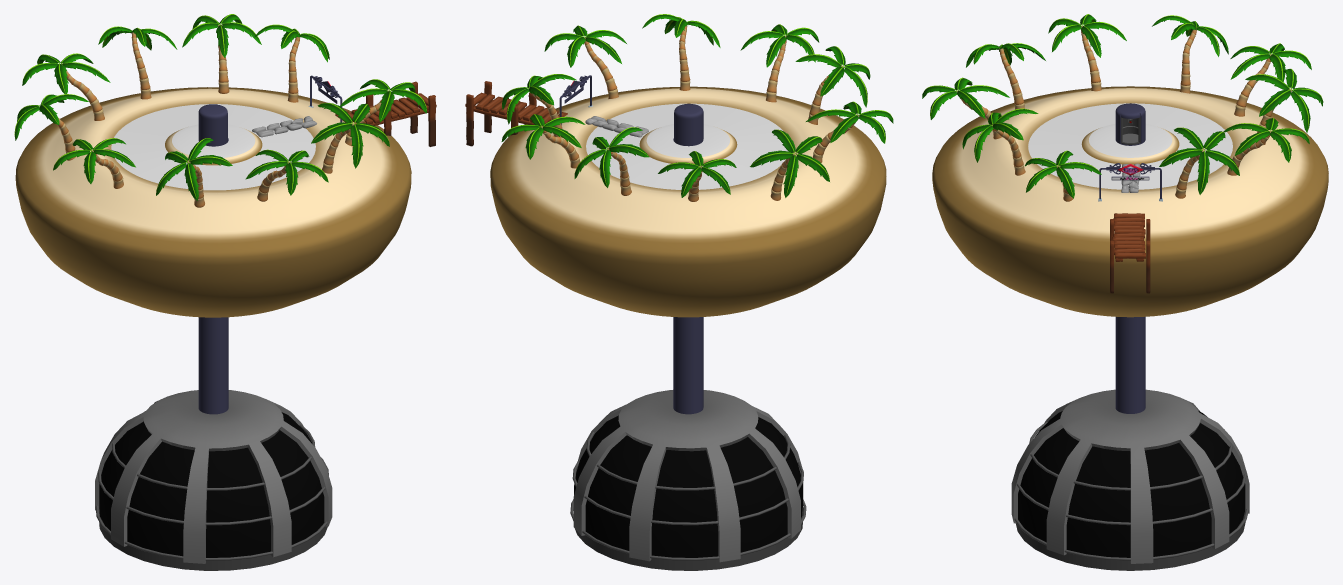
Rendered from PGA.fbx.
3 renders of one model, left to right at view 1: azimuth 30°, elevation 25°; view 2: azimuth 150°, elevation 25°; view 3: azimuth 270°, elevation 25°, orthographic.
Parts seen in each view (by area): view 1: Land, Metal, Cristal, Lake, PalmTree (×4), Elevator Chasm, AquariumFloor, Dock, PalmTree4, Grass, PalmTree6, PalmTree2 (+4 smaller); view 2: Land, Metal, Cristal, Lake, PalmTree (×4), Elevator Chasm, AquariumFloor, Dock, PalmTree5, PalmTree3, Grass, PalmTree2 (+4 smaller); view 3: Land, Cristal, Metal, Lake, PalmTree (×4), Elevator Chasm, AquariumFloor, Dock, Palmtree, Grass, PalmTree4, PalmTree6 (+5 smaller).
Boxes of the visible parts, box(x1,y1,x2,y2) form: Land: box(15, 87, 411, 317); Metal: box(95, 390, 332, 563); Cristal: box(99, 411, 324, 557); Lake: box(111, 104, 315, 190); PalmTree (×4): box(156, 79, 426, 207); Elevator Chasm: box(198, 104, 228, 414); AquariumFloor: box(99, 507, 327, 570); Dock: box(335, 81, 436, 146); PalmTree4: box(22, 53, 110, 120); Grass: box(172, 124, 255, 157); PalmTree6: box(53, 138, 135, 188); PalmTree2: box(182, 14, 261, 93); Land: box(490, 86, 886, 317); Metal: box(570, 390, 806, 562); Cristal: box(574, 415, 802, 557); Lake: box(586, 103, 788, 189); PalmTree (×4): box(544, 14, 870, 124); Elevator Chasm: box(673, 103, 703, 414); AquariumFloor: box(575, 507, 803, 570); Dock: box(465, 81, 567, 146); PalmTree5: box(750, 129, 829, 200); PalmTree3: box(574, 127, 649, 195); Grass: box(646, 124, 729, 157); PalmTree2: box(501, 114, 585, 168); Land: box(932, 86, 1328, 317); Cristal: box(1018, 411, 1245, 557); Metal: box(1011, 389, 1249, 563); Lake: box(1028, 103, 1232, 189); PalmTree (×4): box(922, 43, 1101, 201); Elevator Chasm: box(1115, 103, 1145, 413); AquariumFloor: box(1015, 510, 1245, 570); Dock: box(1110, 213, 1150, 293); Palmtree: box(1159, 127, 1239, 198); Grass: box(1089, 124, 1172, 157); PalmTree4: box(1230, 43, 1311, 116); PalmTree6: box(1048, 14, 1126, 91).
Bounding box in the file's own units: 249 × 269 × 223.
